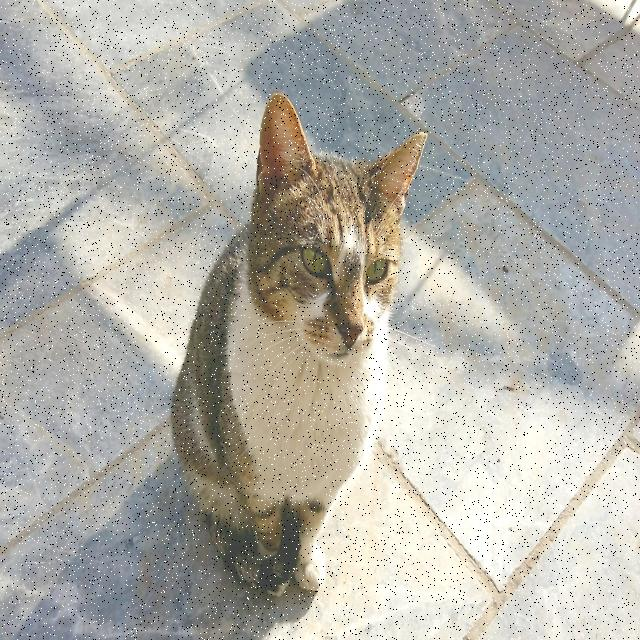cat: (171, 92, 426, 595)
